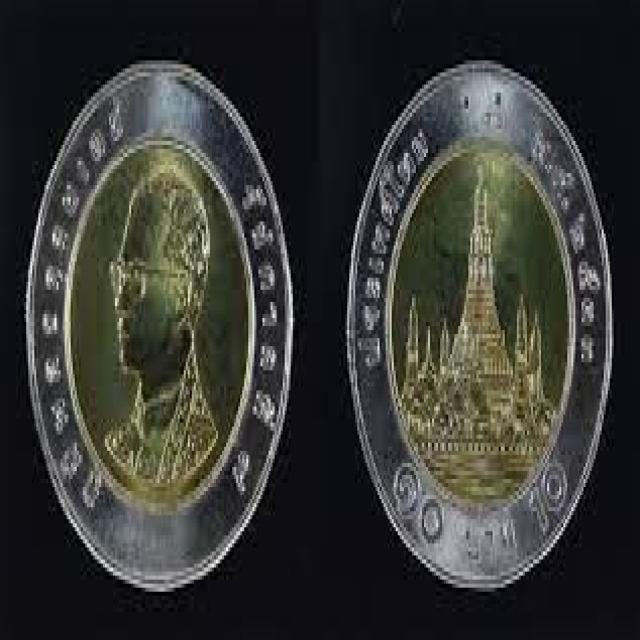10 Bath: (345, 56, 615, 596), (24, 56, 293, 594)
